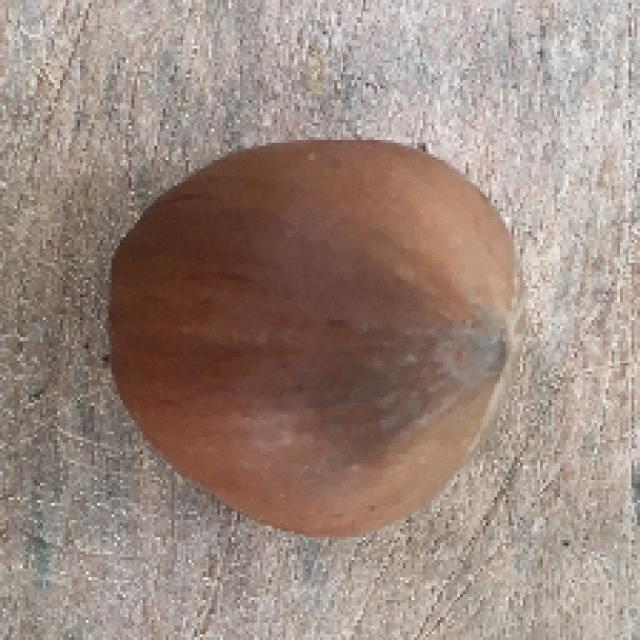qualityHazelnut: (101, 132, 528, 548)
